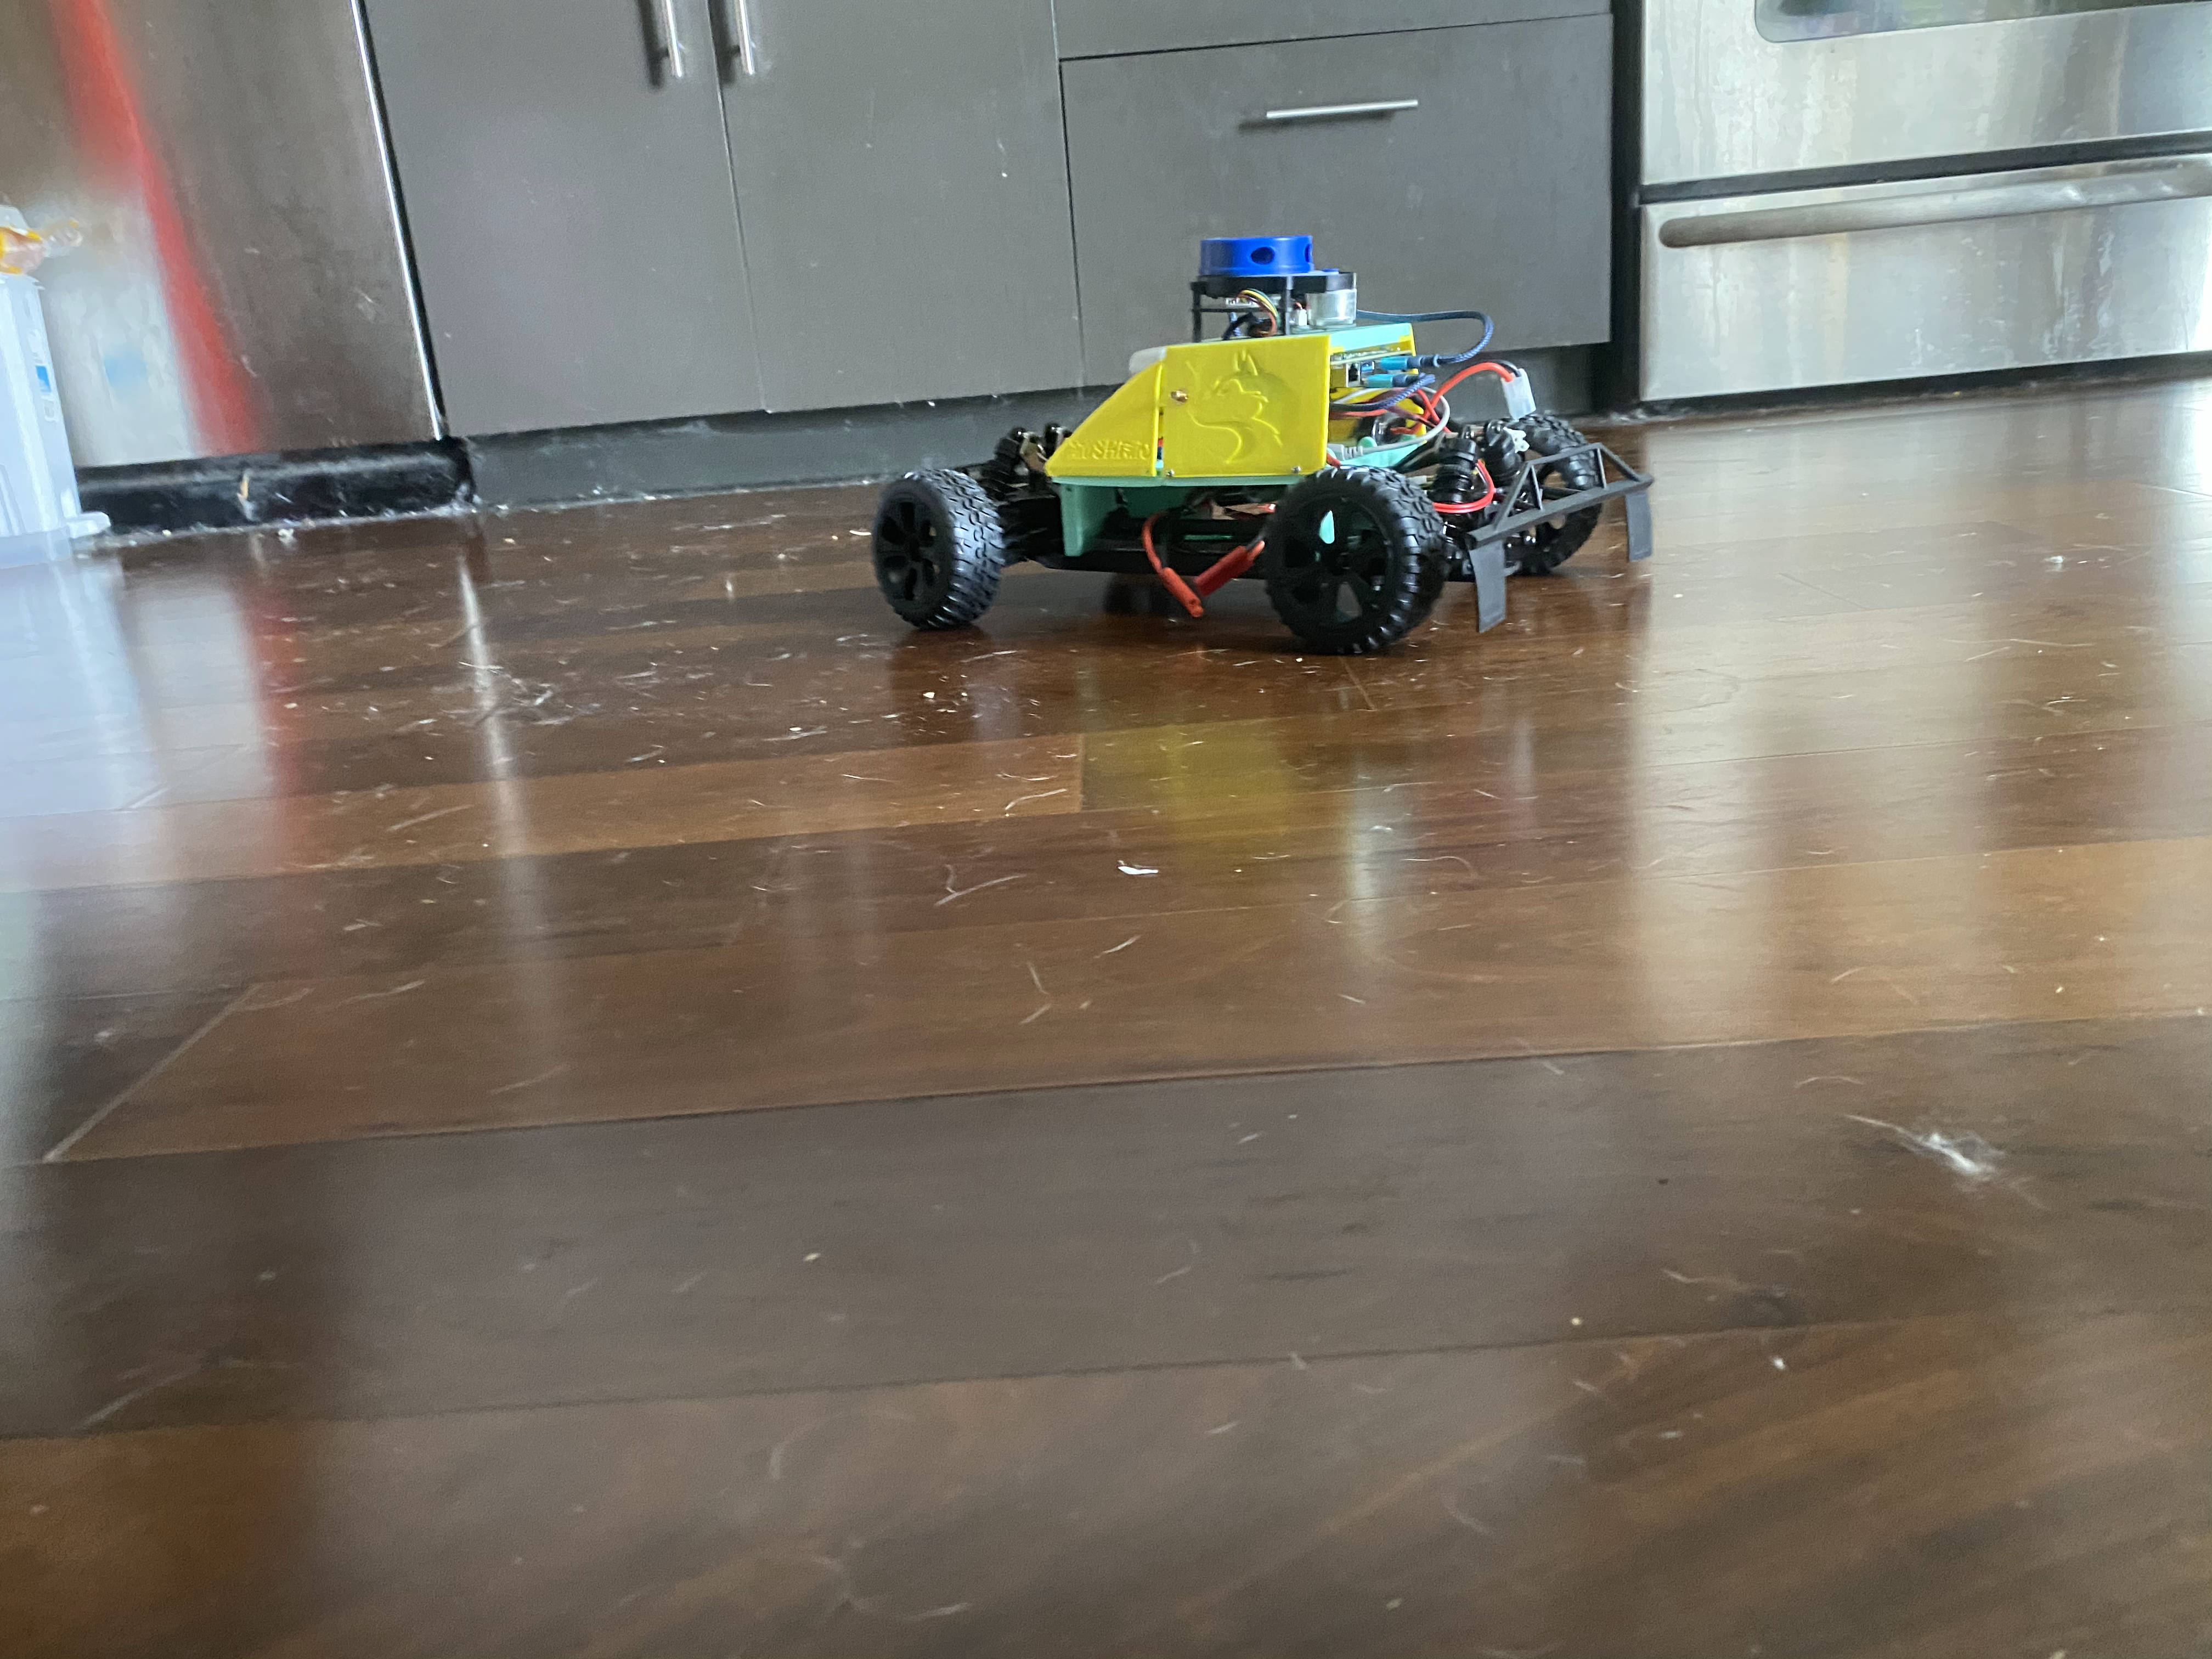mushr_car: (846, 227, 1660, 666)
